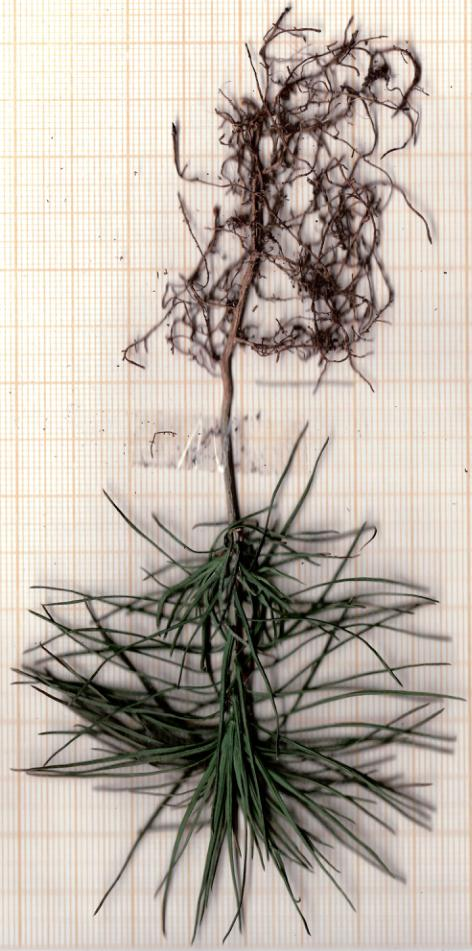flower: (14, 518, 459, 935)
root: (118, 8, 430, 367)
stem: (214, 361, 248, 521)
